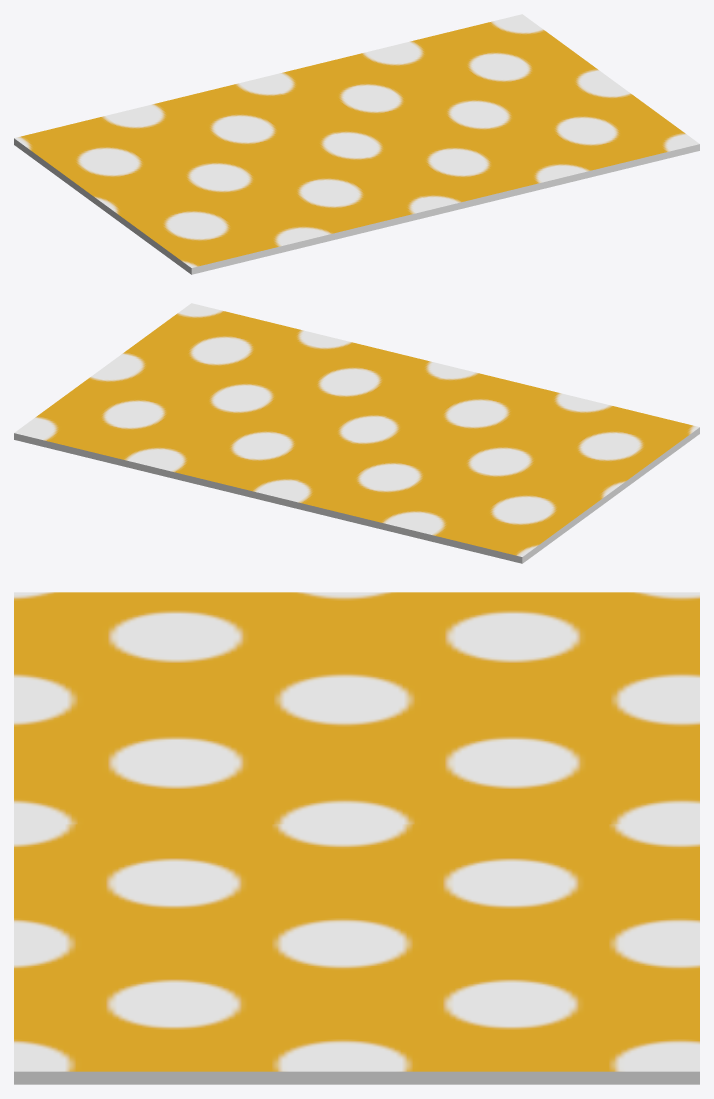
3 renders of one model, top to bottom at view 1: azimuth 30°, elevation 25°; view 2: azimuth 150°, elevation 25°; view 3: azimuth 270°, elevation 25°, orthographic. The views are drawn at different scales.
Visible parts, largest first — view 1: Mat_B; view 2: Mat_B; view 3: Mat_B.
Boxes of the visible parts, bbox=[...] form: Mat_B: bbox=[14, 14, 699, 274]; Mat_B: bbox=[14, 303, 699, 563]; Mat_B: bbox=[14, 592, 699, 1084].
Size of the model in its own units: 268 by 3.38 by 162.
